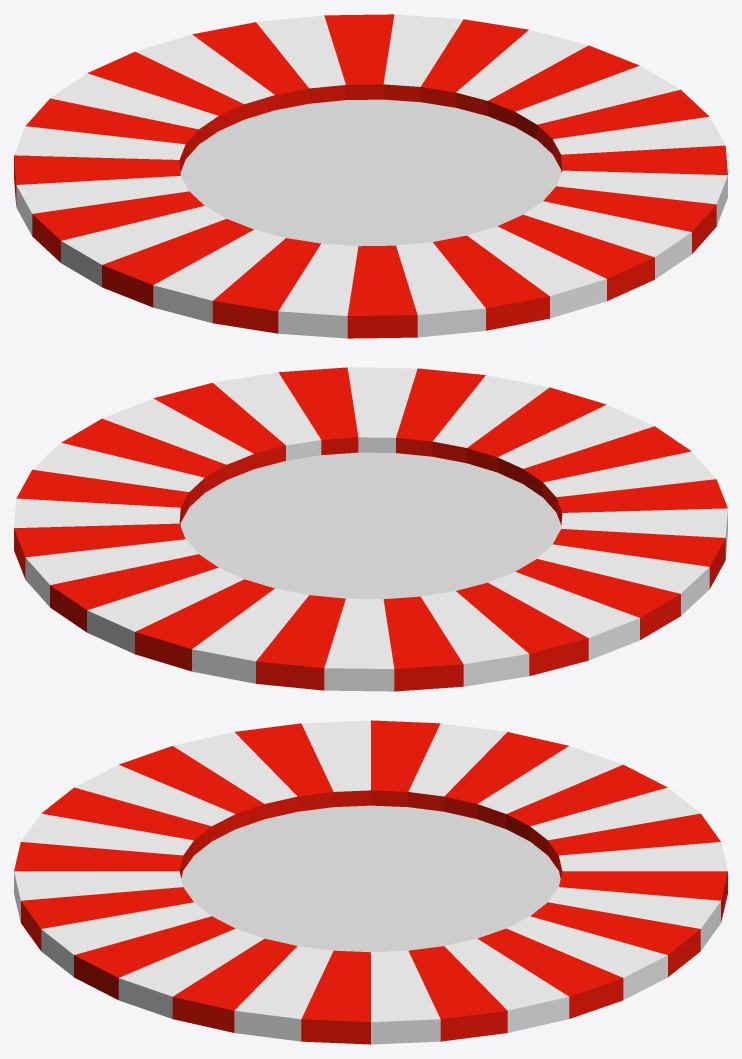
File: ficha_2.fbx
3 renders of one model, top to bottom at view 1: azimuth 30°, elevation 25°; view 2: azimuth 150°, elevation 25°; view 3: azimuth 270°, elevation 25°, orthographic.
Visible parts, largest first — view 1: borde fitxa negra.001; view 2: borde fitxa negra.001; view 3: borde fitxa negra.001.
Part boxes in pixels (x1,y1,x2,y2): borde fitxa negra.001: (14,14,727,338); borde fitxa negra.001: (14,367,727,691); borde fitxa negra.001: (14,720,727,1044).
Bounding box in the file's own units: 36.08 × 1.25 × 36.08.
